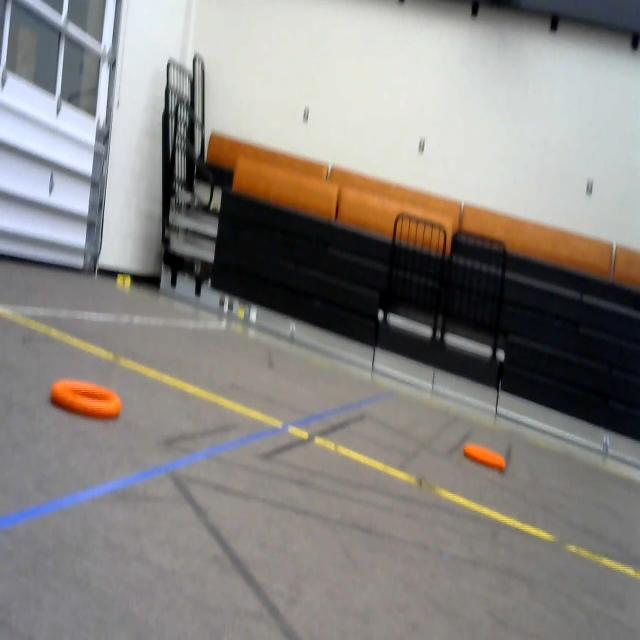note: (50, 372, 122, 423), (462, 432, 508, 482)
